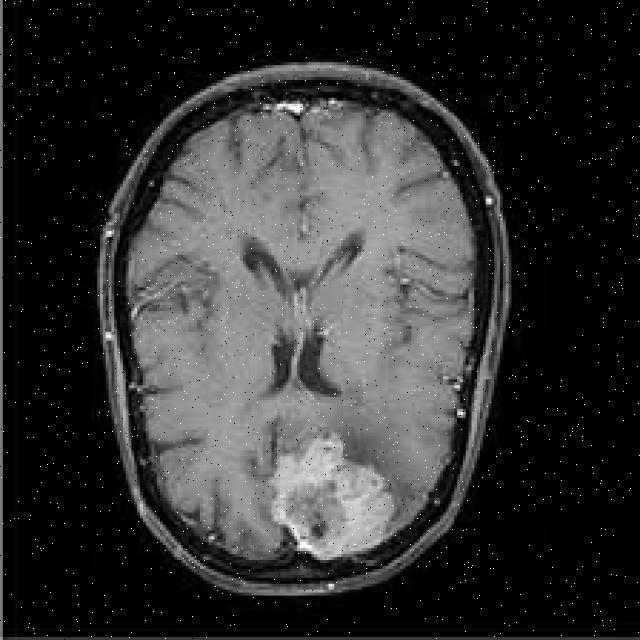Meningioma: (274, 434, 393, 558)
